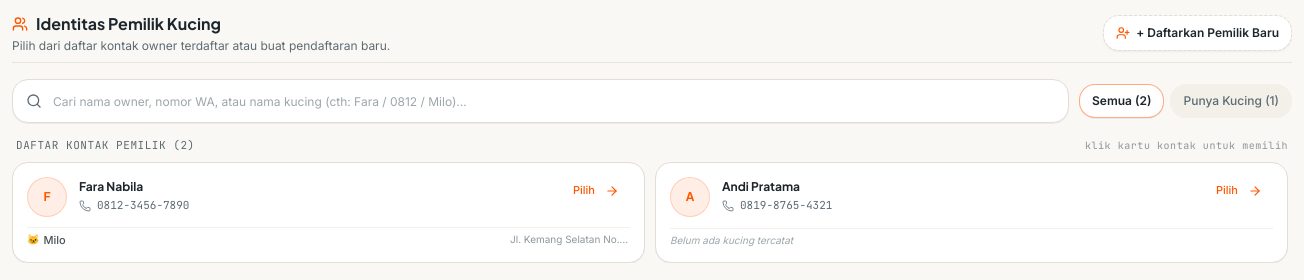
Scenario: src/components/pos/OwnerContactPicker.tsx - Component & Red-Team Tests › filters owners by Punya Kucing tab
Click "Punya Kucing" tab
Click the button "Punya Kucing (1)" at {"x": 1231, "y": 101}, box [1170,84,1292,118]
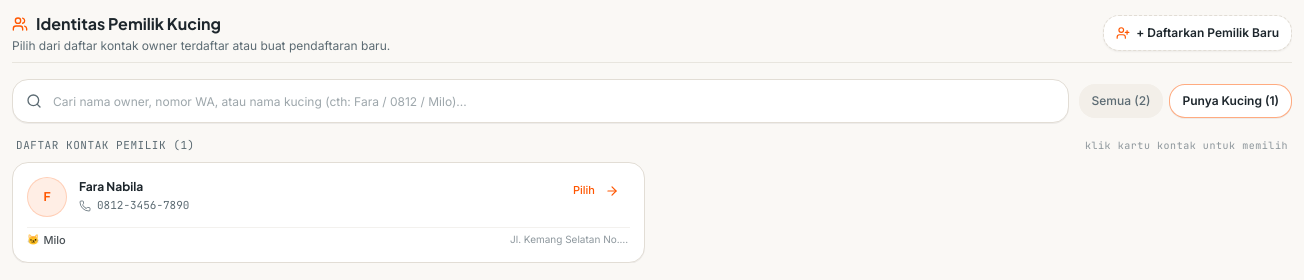
expect the text "Fara Nabila" is shown: met, box [79,179,143,194]
expect the button "Andi Pratama" is gone: met
